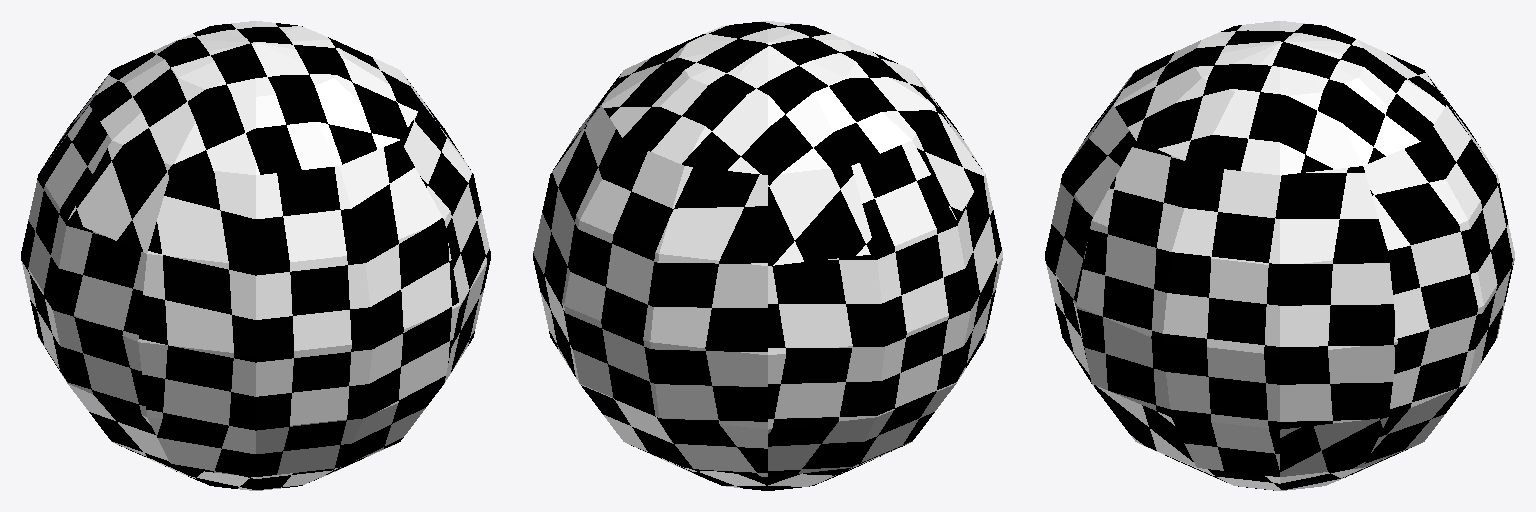
3 views of the same model, side by side, from view 1: azimuth 30°, elevation 25°; view 2: azimuth 150°, elevation 25°; view 3: azimuth 270°, elevation 25° (orthographic).
Parts seen in each view (by area): view 1: Sphere; view 2: Sphere; view 3: Sphere.
Part boxes in pixels (x1,y1,x2,y2): Sphere: (21, 21, 490, 490); Sphere: (533, 21, 1002, 490); Sphere: (1045, 21, 1514, 490).
Size of the model in its own units: 2 by 2 by 2.
1 materials, 1 textured.